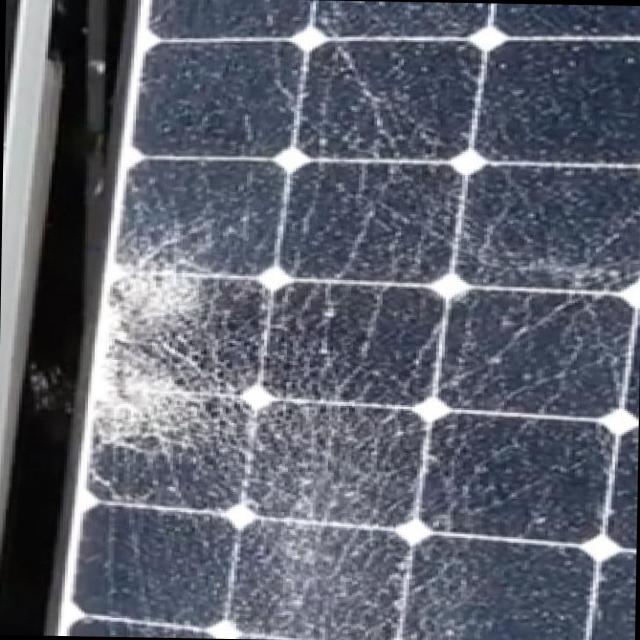faulty: (73, 0, 640, 640), (69, 205, 278, 502)
